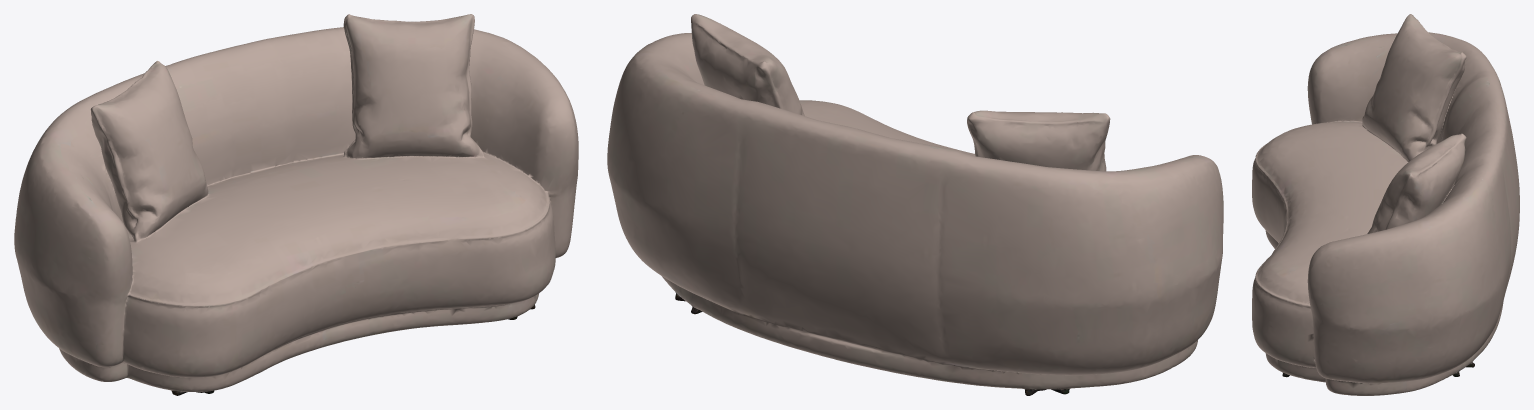
The model's file is sofa-3.glb.
3 renders of one model, left to right at view 1: azimuth 30°, elevation 25°; view 2: azimuth 150°, elevation 25°; view 3: azimuth 270°, elevation 25°, orthographic. The views are drawn at different scales.
Parts seen in each view (by area): view 1: geometry_0; view 2: geometry_0; view 3: geometry_0.
Boxes of the visible parts, <box> form: geometry_0: <box>14,14,578,395</box>; geometry_0: <box>607,14,1223,395</box>; geometry_0: <box>1252,14,1519,395</box>.
Size of the model in its own units: 32881 by 14531 by 16728.
Materials: 1 (1 with a texture image).
